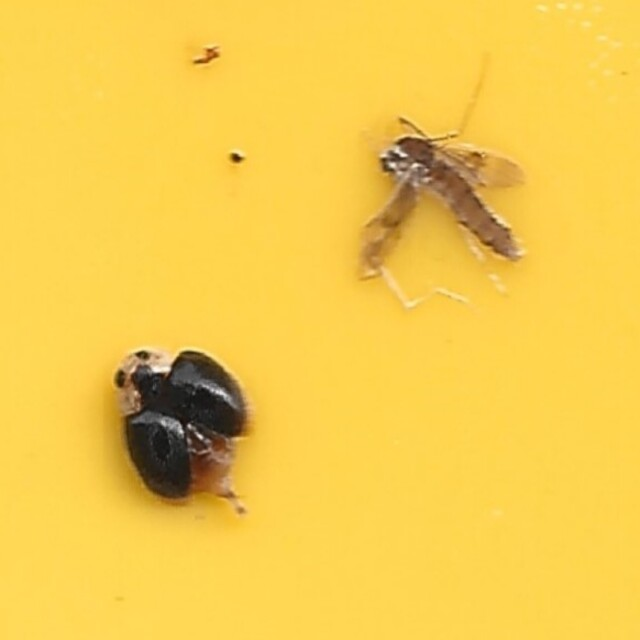Coleoptera: (110, 338, 253, 508)
Nematocera: (353, 132, 530, 282)
